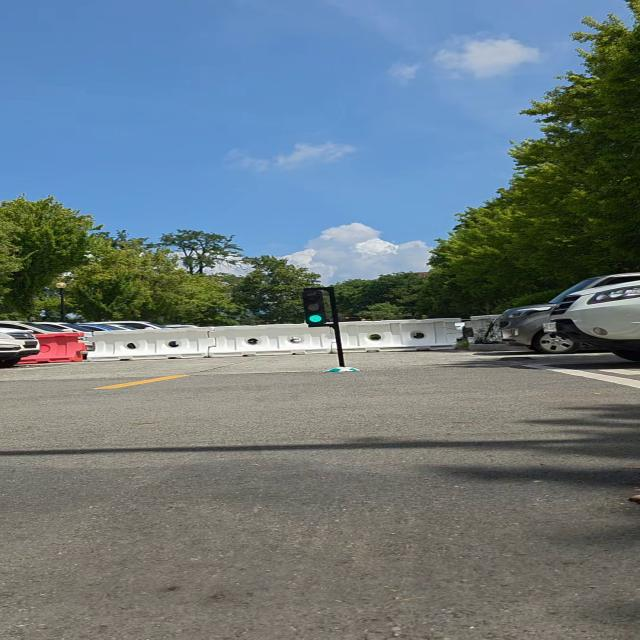green: (296, 287, 332, 328)
